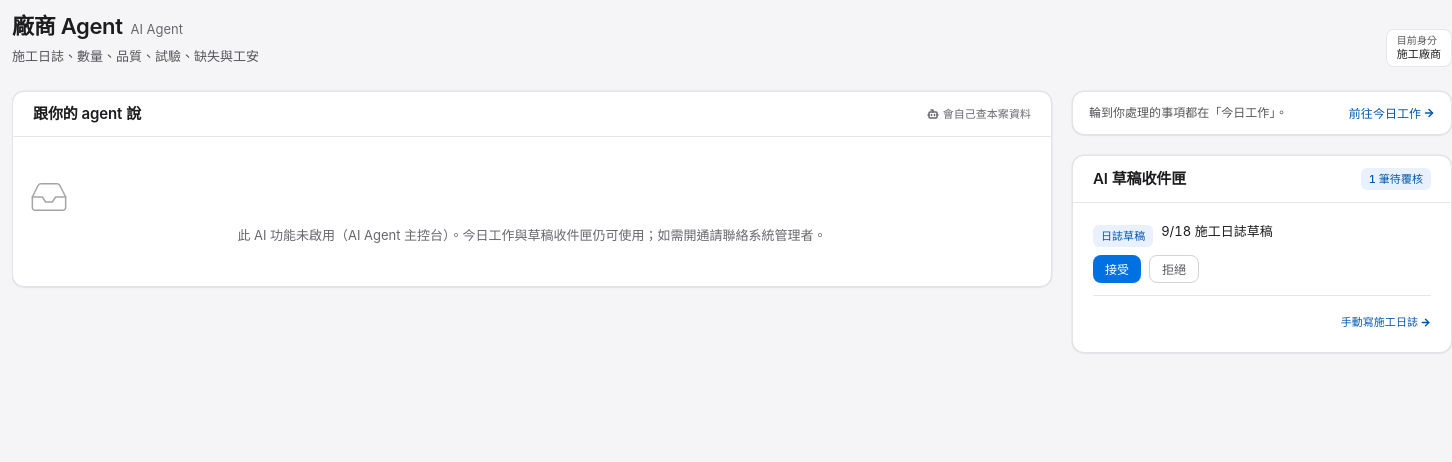
Test: 拒絕 AI 起稿的現場文書草稿 › 已簽署／已提送的文件:只標草稿已拒絕,文件保留並說明為什麼
Click the button "拒絕": (1174, 269) [1149,255,1199,283]
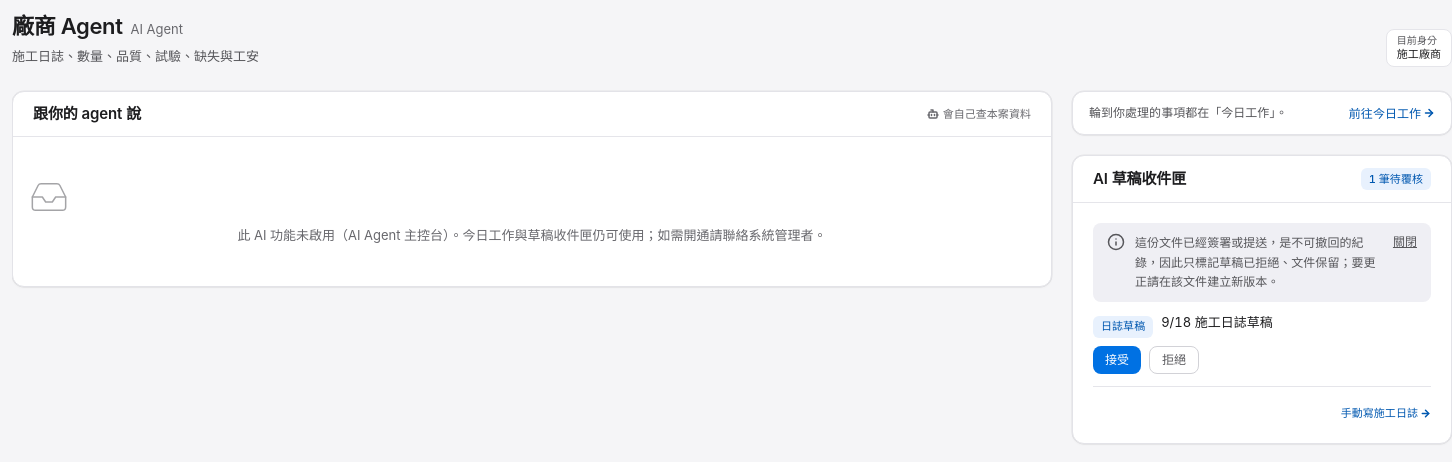
Check: the text "已經簽署或提送" is shown, box [1135,235,1376,289]
Check: the text "文件保留" is shown, box [1135,235,1376,289]
